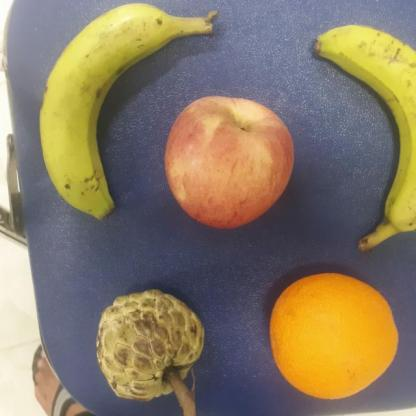annona: (90, 288, 209, 402)
apple: (152, 90, 298, 235)
banana: (37, 0, 172, 223), (301, 21, 415, 240)
orange: (264, 265, 400, 400)
